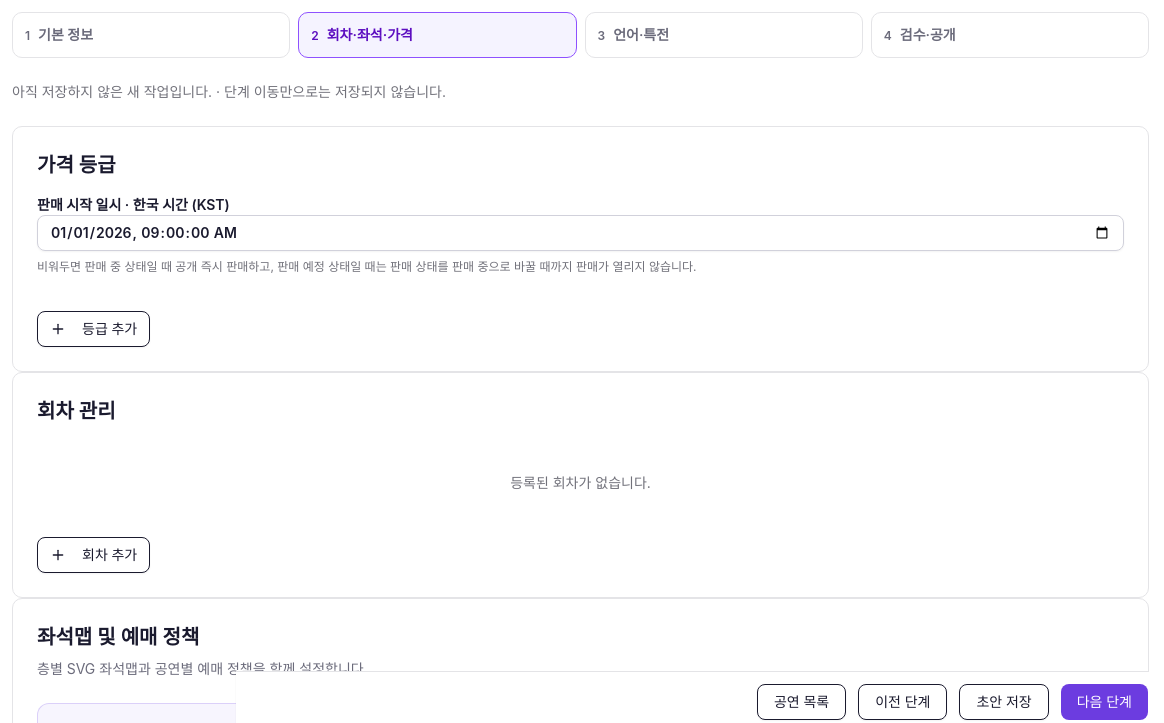
PerformanceForm publish state from the preparation read › does not warn about an elapsed sale start for a public, already selling performance that was only opened
Expected: the text "입력한 판매 시작 시각이 이미 지났습니다. 반영하거나 공개하면 바로 판매가 열립니다." is not shown
Step 1. Replace the text in the field labelled "판매 시작 일시" with "2026-01-02T09:00" → (580,233), box [37, 215, 1124, 251]
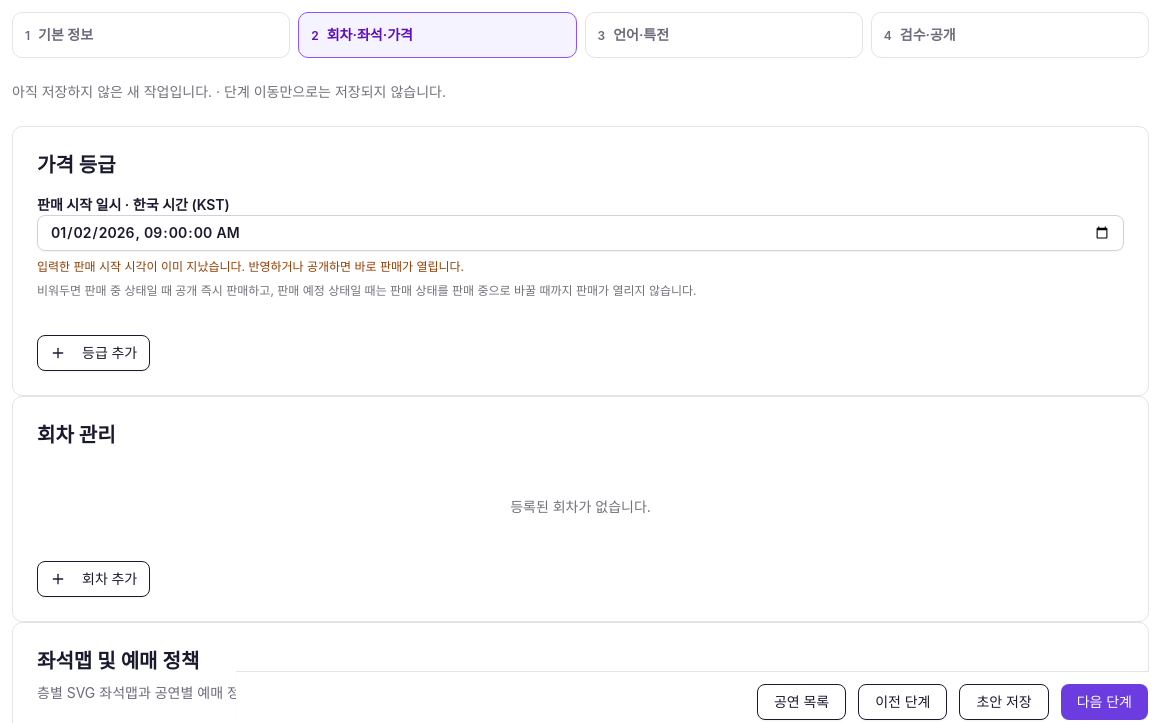
Expected: the text "입력한 판매 시작 시각이 이미 지났습니다. 반영하거나 공개하면 바로 판매가 열립니다." is shown, [37, 259, 464, 274]
# Back to the stored start: opening a public, selling performance warns about nothing.
Step 2. Replace the text in the field labelled "판매 시작 일시" with "2026-01-01T09:00" → (580,233), box [37, 215, 1124, 251]
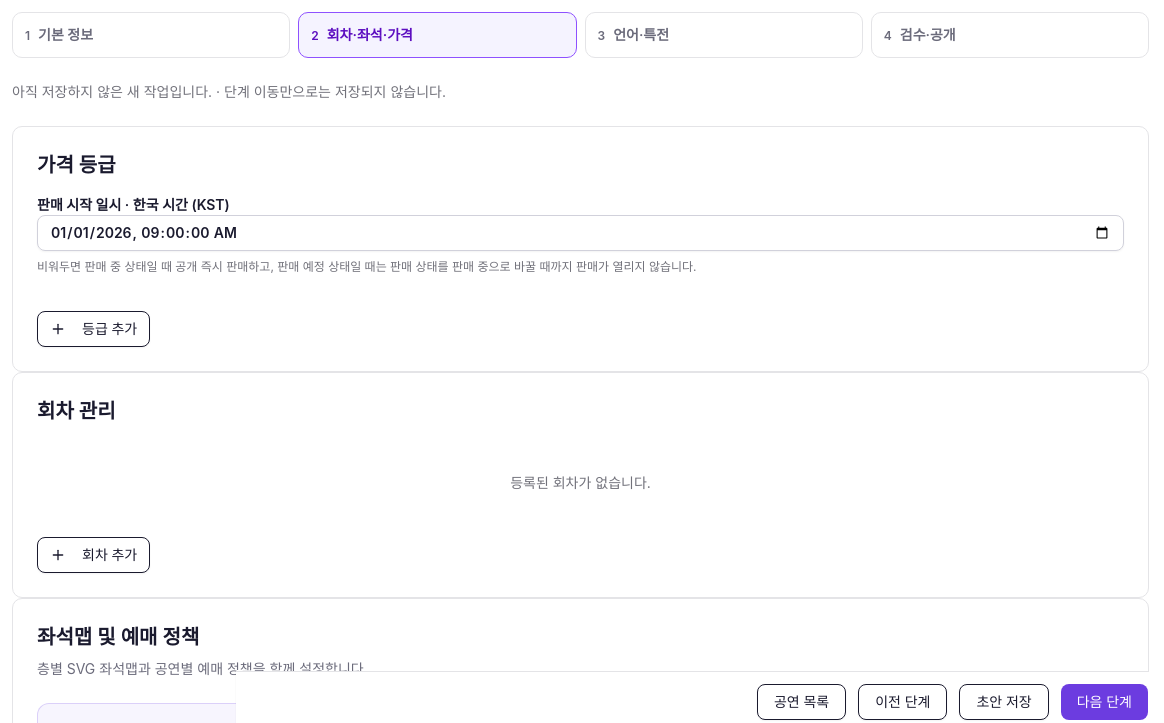
Expected: the text "입력한 판매 시작 시각이 이미 지났습니다. 반영하거나 공개하면 바로 판매가 열립니다." is gone
